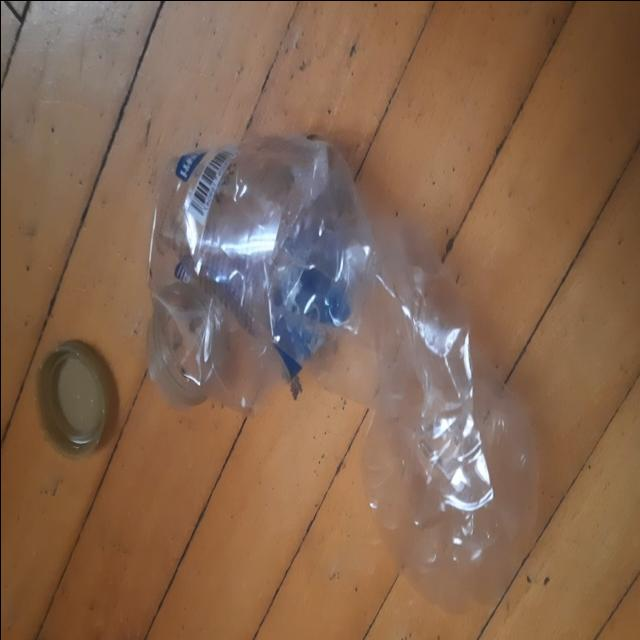Plastic: (146, 134, 538, 614)
